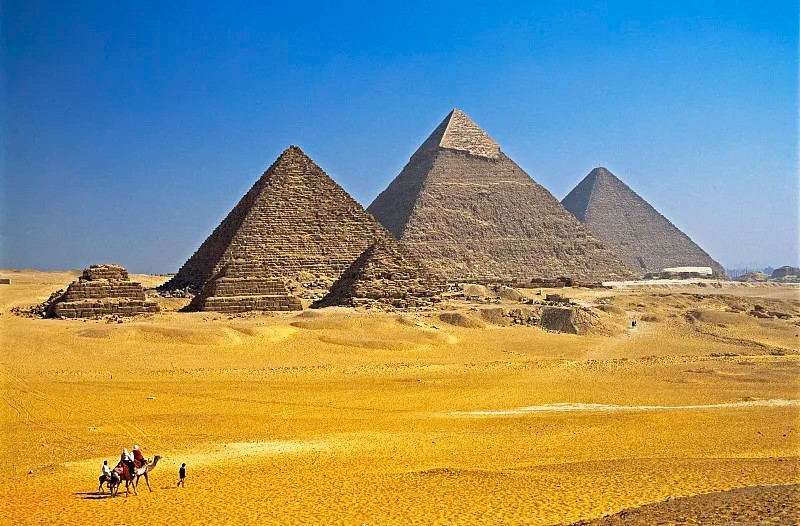Pyramid: (365, 109, 641, 285), (159, 145, 448, 301), (560, 168, 730, 277), (315, 238, 442, 306), (182, 249, 306, 311), (42, 264, 163, 320)
